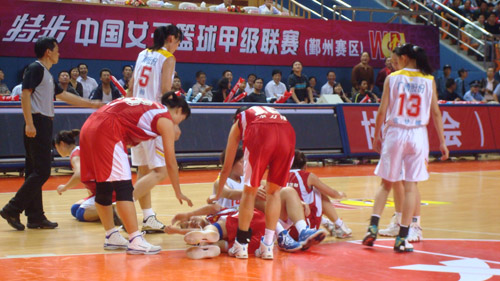10+: (1, 1, 500, 281)
down: (52, 132, 135, 223), (158, 201, 266, 262), (289, 151, 354, 239), (209, 147, 249, 212)
